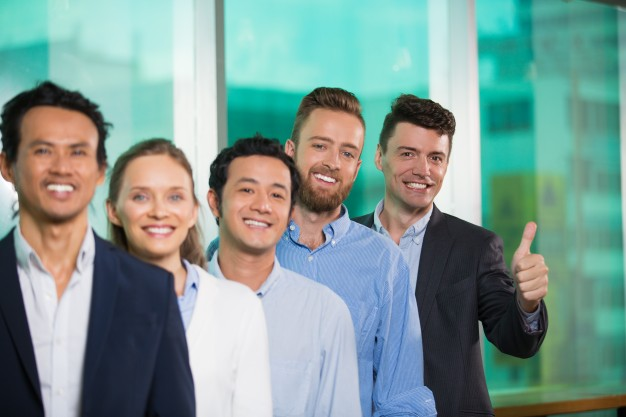thumbsup: (512, 221, 549, 301)
